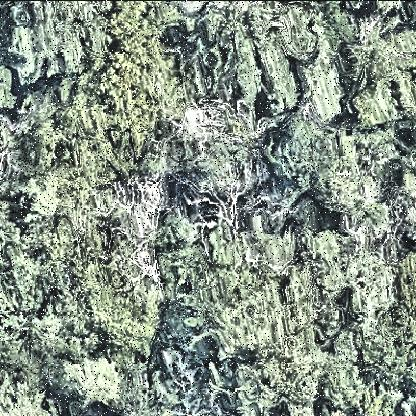tree-top: (199, 268, 307, 372), (28, 85, 116, 211), (224, 308, 316, 415), (1, 254, 75, 373), (102, 23, 182, 133), (301, 222, 388, 318), (173, 91, 262, 181), (154, 246, 222, 350), (3, 6, 97, 81), (82, 266, 159, 350), (269, 114, 345, 193), (313, 154, 388, 221), (354, 309, 414, 391), (101, 174, 173, 235), (246, 2, 318, 62), (61, 351, 127, 414), (351, 20, 416, 83), (177, 94, 243, 154), (231, 351, 291, 414), (296, 58, 350, 124), (322, 371, 400, 416), (349, 79, 399, 129), (1, 376, 50, 416), (396, 239, 416, 324), (364, 1, 408, 18)
